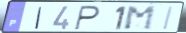1: (114, 5, 128, 31)
4: (51, 5, 71, 31)
I: (162, 5, 176, 31), (33, 6, 44, 30)
M: (123, 5, 157, 31)
P: (73, 5, 102, 32)
